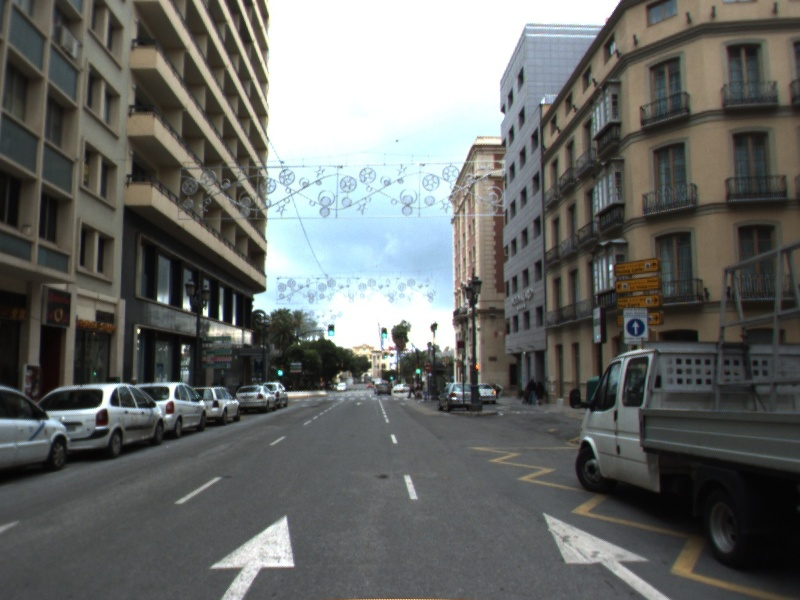STRAIGHT: (538, 507, 679, 600), (205, 511, 299, 600)
